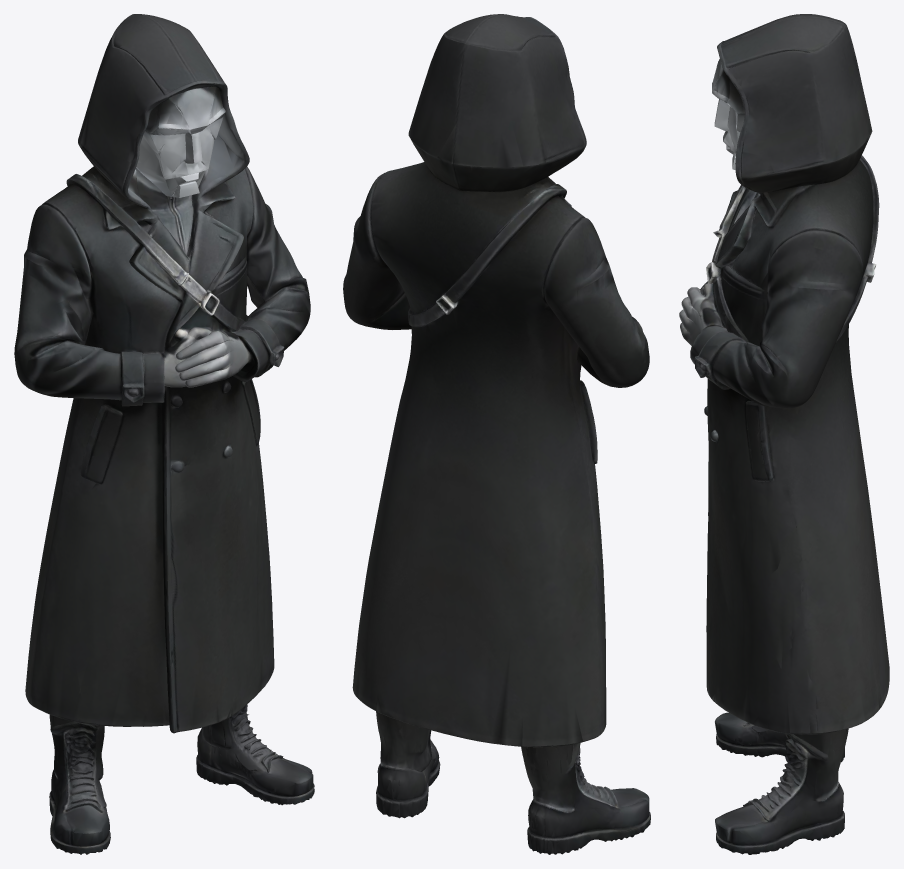
Rendered from frontman.glb.
3 views of the same model, side by side, from view 1: azimuth 30°, elevation 25°; view 2: azimuth 150°, elevation 25°; view 3: azimuth 270°, elevation 25° (orthographic). The views are drawn at different scales.
Parts seen in each view (by area): view 1: model; view 2: model; view 3: model.
Part boxes in pixels (x1,y1,x2,y2): model: (14,14,314,854); model: (343,14,650,854); model: (679,14,889,854).
Bounding box in the file's own units: 0.735 × 1.9 × 0.4649.
1 material, 1 textured.
